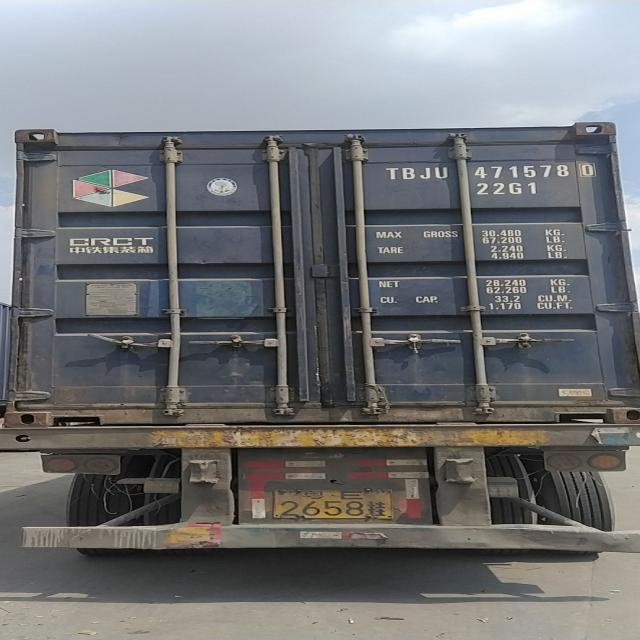seal: (401, 329, 427, 358)
